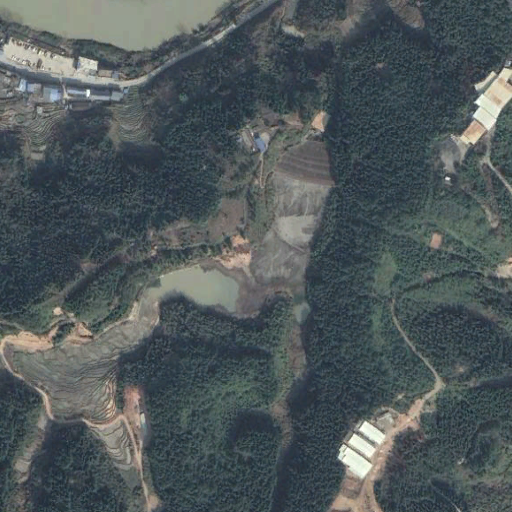tp: (132, 139, 335, 325)
